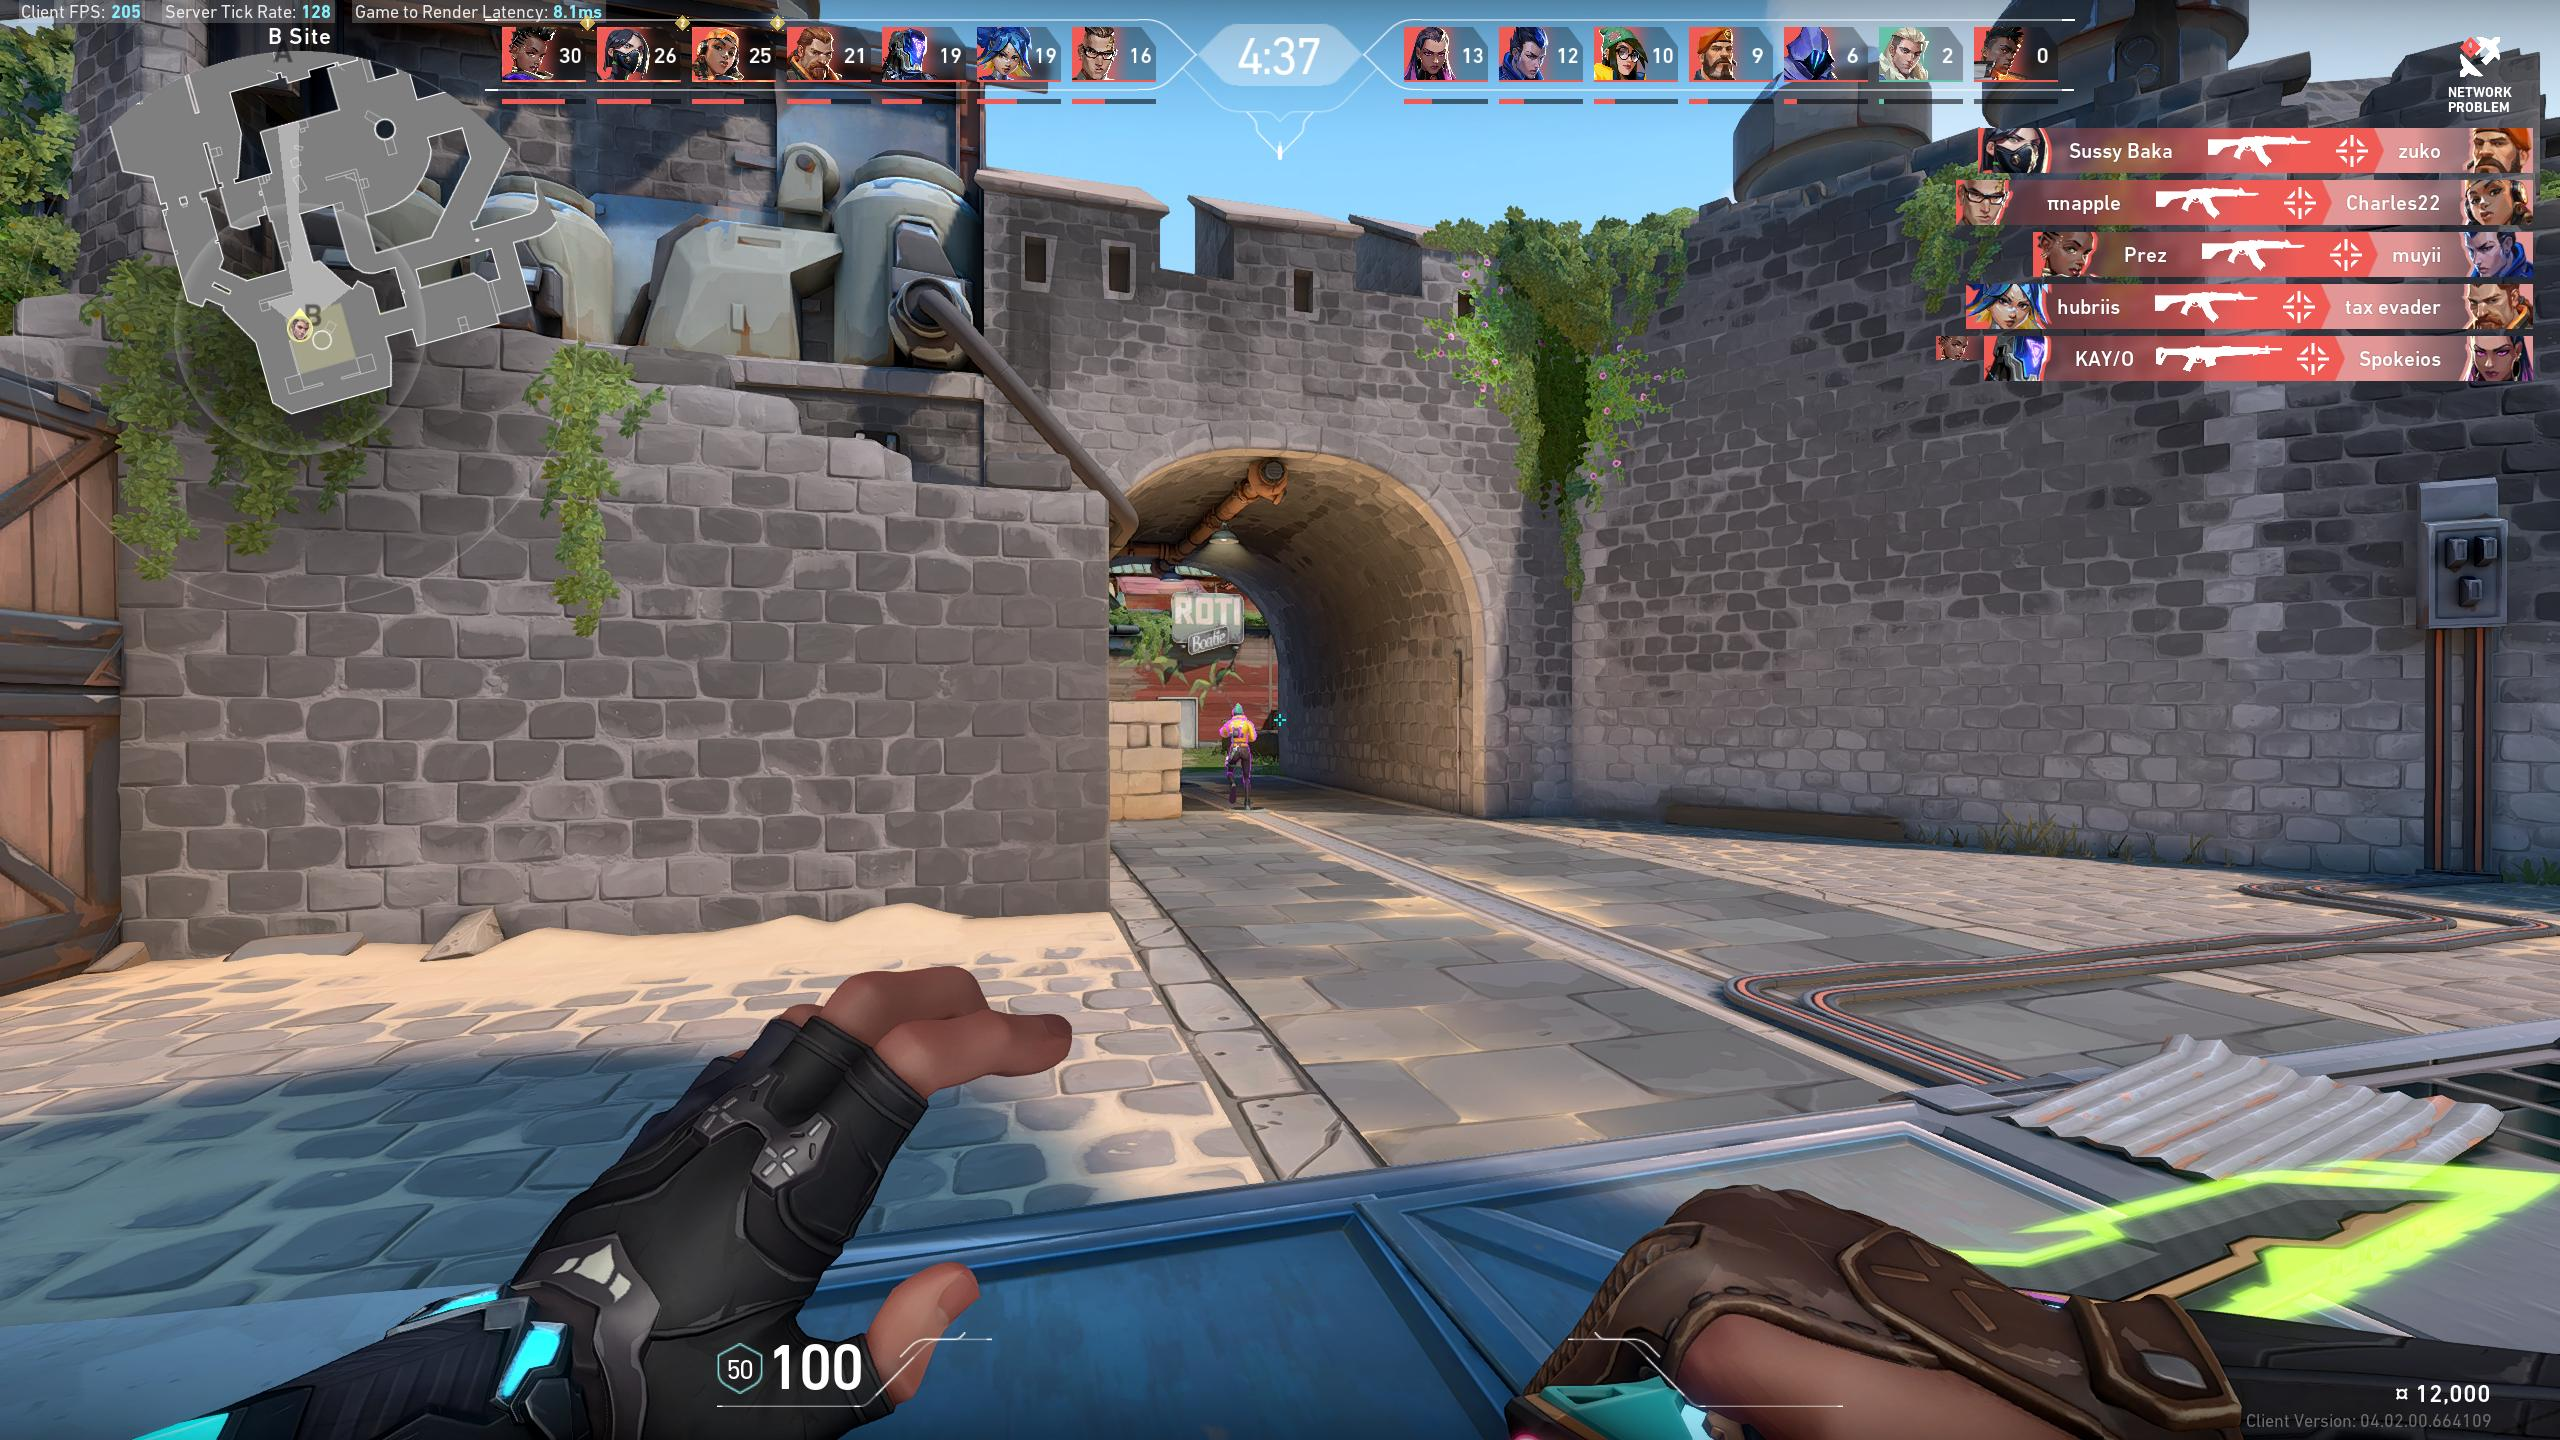enemyBody: (1231, 717, 1247, 742)
enemyHead: (1234, 709, 1241, 716)
